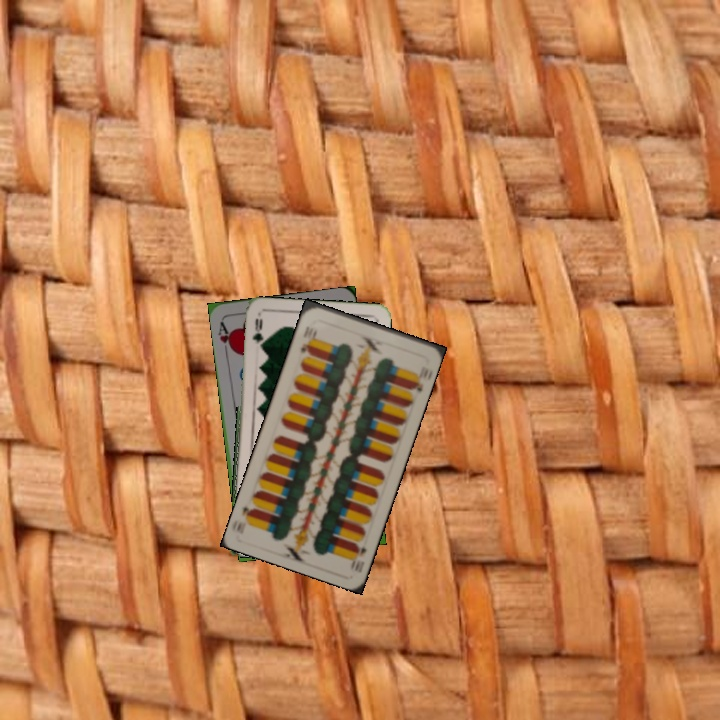E10: (346, 539, 369, 575), (296, 322, 316, 357)
G9: (248, 314, 265, 350)
HA: (214, 317, 236, 357)
